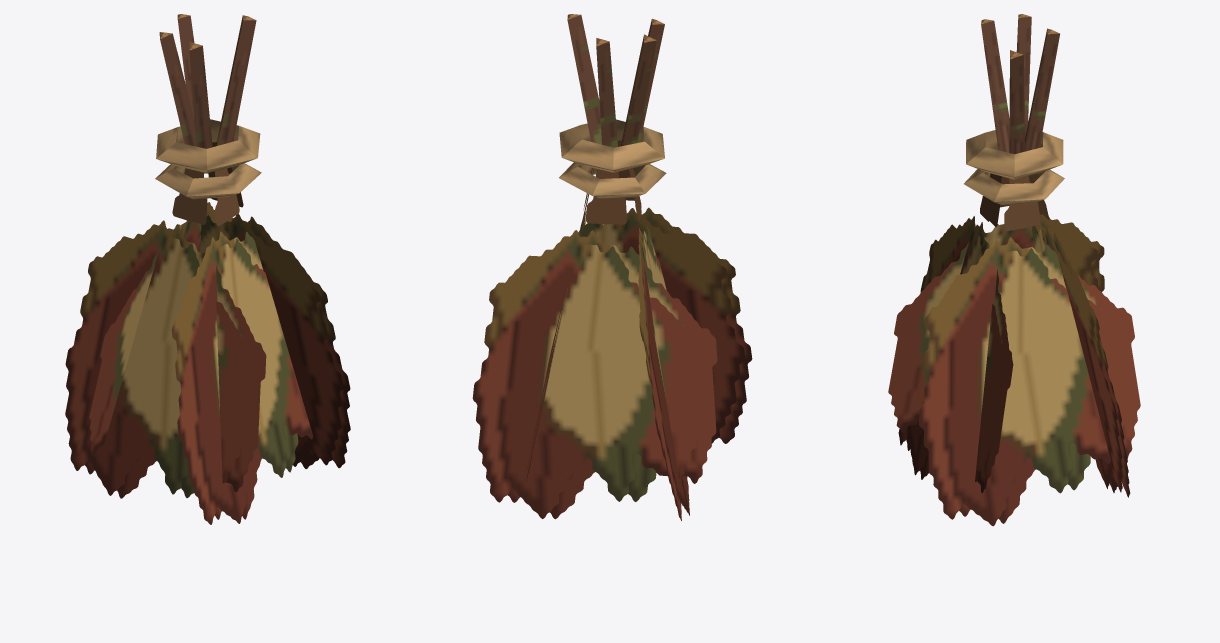
File: SM_PR15_HerbBundle.fbx
3 renders of one model, left to right at view 1: azimuth 30°, elevation 25°; view 2: azimuth 150°, elevation 25°; view 3: azimuth 270°, elevation 25°, orthographic. The views are drawn at different scales.
Visible parts, largest first — view 1: PR15_Leaves, PR15_Stems; view 2: PR15_Leaves, PR15_Stems; view 3: PR15_Leaves, PR15_Stems.
Part boxes in pixels (x1,y1,x2,y2): PR15_Leaves: (65,142,350,524); PR15_Stems: (155,14,261,199); PR15_Leaves: (472,140,752,520); PR15_Stems: (559,14,666,198); PR15_Leaves: (888,173,1140,526); PR15_Stems: (964,14,1064,204).
Size of the model in its own units: 0.2979 by 0.4422 by 0.2979.
